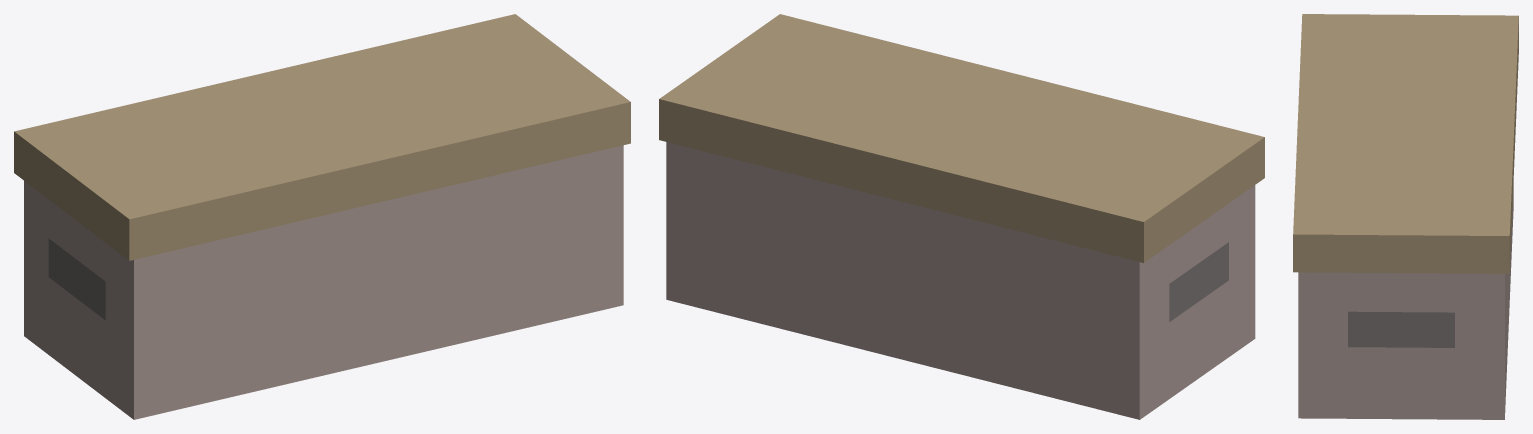
3 views of the same model, side by side, from view 1: azimuth 30°, elevation 25°; view 2: azimuth 150°, elevation 25°; view 3: azimuth 270°, elevation 25° (orthographic). The views are drawn at different scales.
Parts seen in each view (by area): view 1: SM_Box_03; view 2: SM_Box_03; view 3: SM_Box_03.
Boxes of the visible parts, x1,y1,x2,y2 form: SM_Box_03: (14,14,630,419); SM_Box_03: (659,14,1264,419); SM_Box_03: (1293,14,1518,419).
Size of the model in its own units: 56.27 by 21.97 by 24.17.
Materials: 1 (1 with a texture image).
